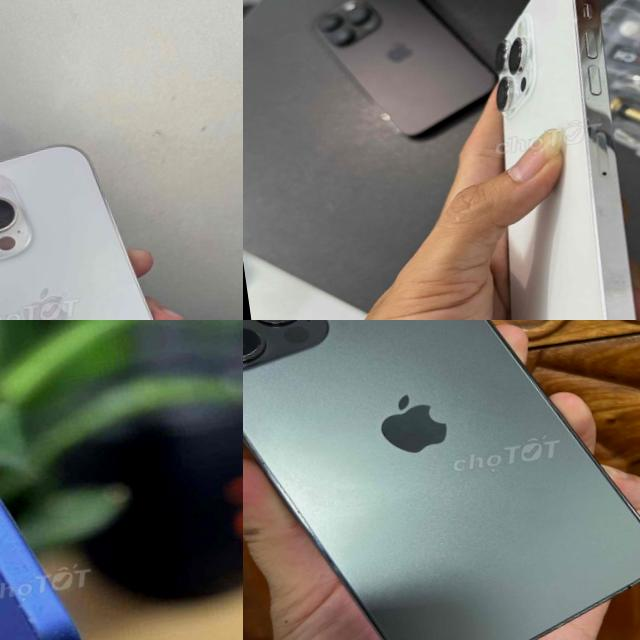gen_12_13: (243, 320, 640, 640)
gen_14: (451, 0, 640, 320), (0, 122, 208, 320)
scratch: (0, 450, 73, 640)
